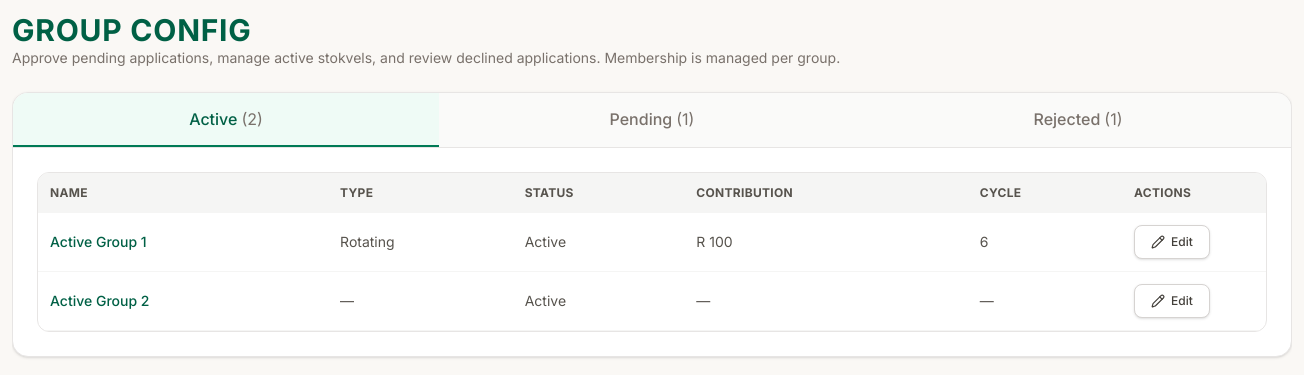
Test: AdminGroups › switches between tabs successfully
Expected: the link "Active Group 1" is shown, top-left (50, 233), bottom-right (147, 250)
// Switch to Pending
Click the button "Pending(1)": click(652, 120) top-left (439, 93), bottom-right (865, 147)
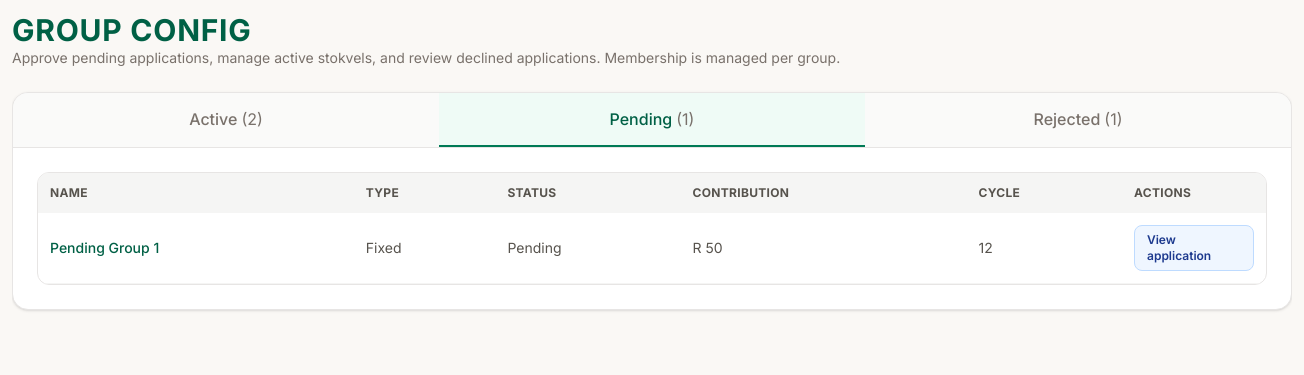
Expected: the link "Pending Group 1" is shown, top-left (50, 239), bottom-right (159, 256)
Expected: no links "Active Group 1" are shown
// Switch to Rejected
Click the button "Rejected(1)": click(1078, 120) top-left (865, 93), bottom-right (1291, 147)
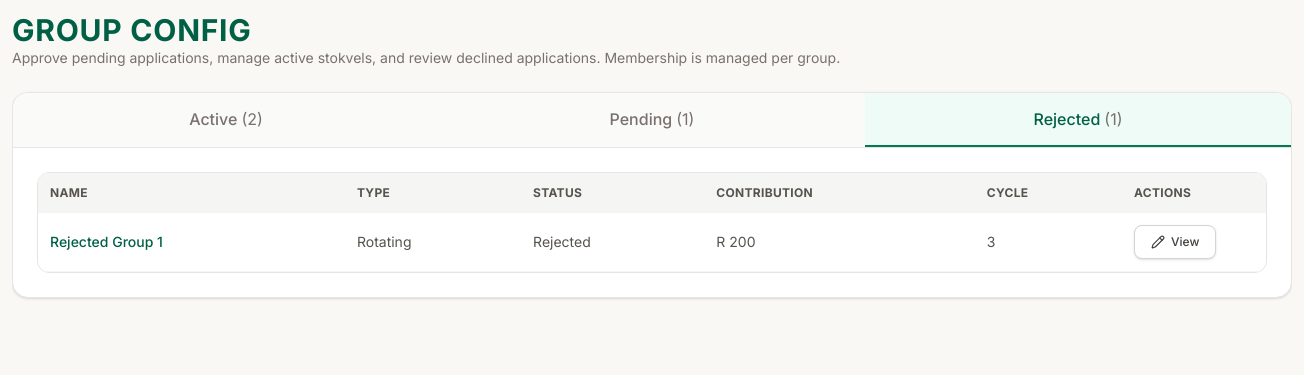
Expected: the link "Rejected Group 1" is shown, top-left (50, 233), bottom-right (163, 250)
Expected: no links "Pending Group 1" are shown
